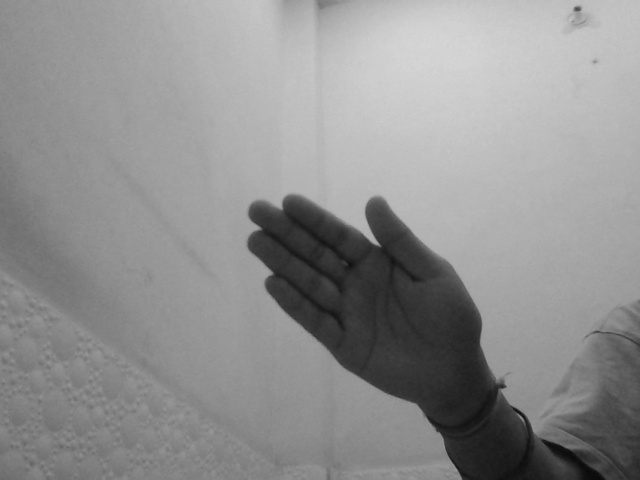Hello: (240, 192, 483, 403)
